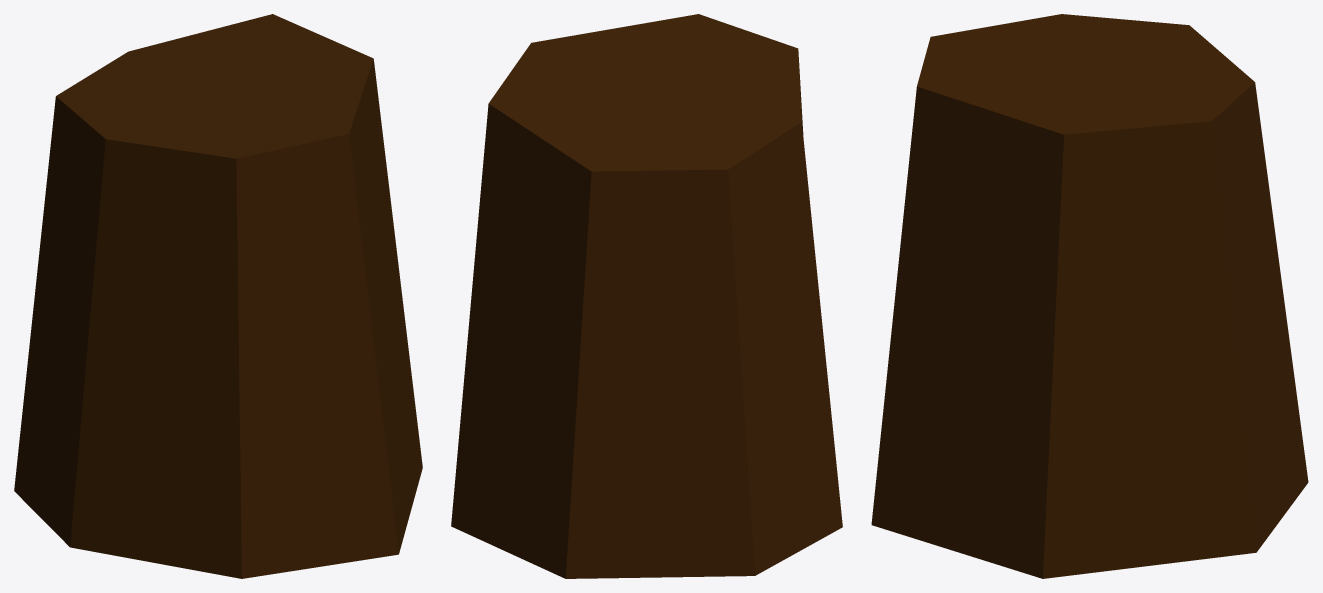
Rendered from campfire_stump.fbx.
3 renders of one model, left to right at view 1: azimuth 30°, elevation 25°; view 2: azimuth 150°, elevation 25°; view 3: azimuth 270°, elevation 25°, orthographic. The views are drawn at different scales.
Visible parts, largest first — view 1: Cylinder; view 2: Cylinder; view 3: Cylinder.
Part boxes in pixels (bbox=[...]): Cylinder: bbox=[14, 14, 422, 578]; Cylinder: bbox=[451, 14, 842, 578]; Cylinder: bbox=[871, 14, 1308, 578].
Size of the model in its own units: 170 by 193 by 180.
